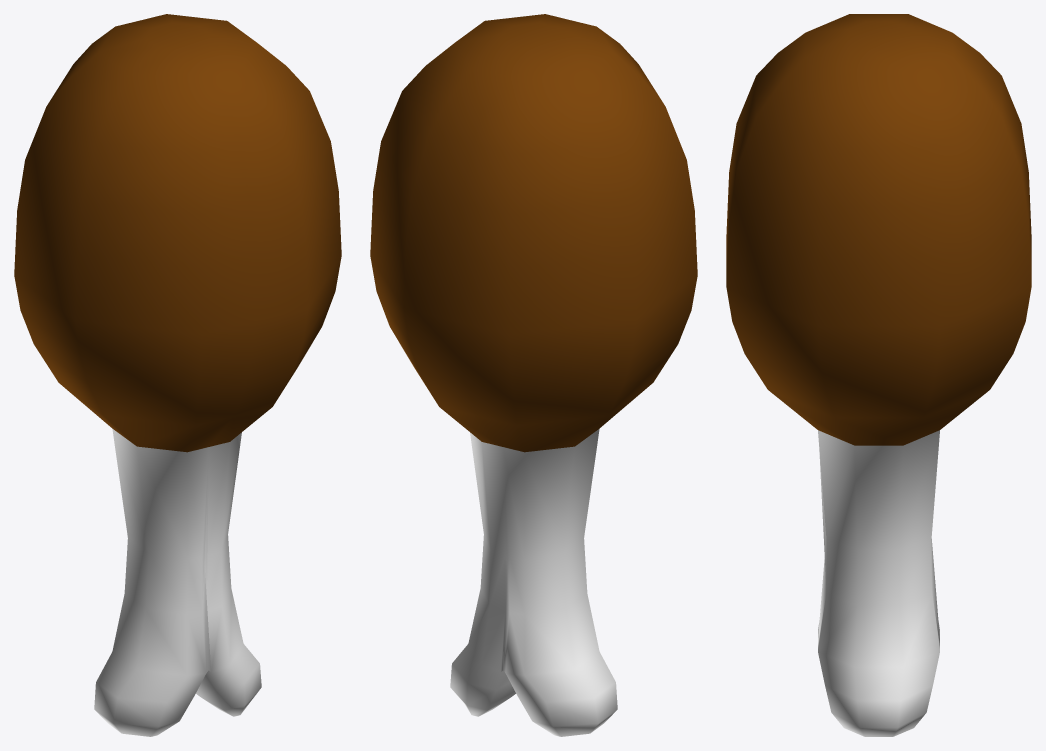
Rendered from ChickenLeg.fbx.
The picture shows the model from 3 angles, left to right: view 1: azimuth 30°, elevation 25°; view 2: azimuth 150°, elevation 25°; view 3: azimuth 270°, elevation 25°; orthographic projection.
Parts seen in each view (by area): view 1: Cube; view 2: Cube; view 3: Cube.
Boxes of the visible parts, <box> form: Cube: <box>14,14,341,736</box>; Cube: <box>370,14,697,736</box>; Cube: <box>726,14,1031,736</box>.
Size of the model in its own units: 499 by 1213 by 499.
